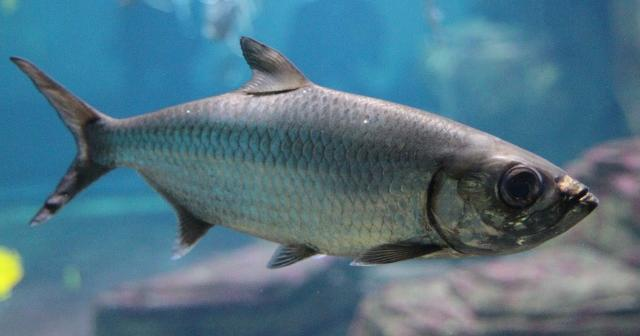Mulut: (555, 169, 613, 235)
Sirip Anal: (134, 161, 218, 259)
Sirip Dada: (341, 230, 437, 278)
Sirip Ekor: (2, 42, 108, 240)
Sirip Perut: (264, 239, 318, 272)
Sirip Punggung: (234, 27, 322, 95)
